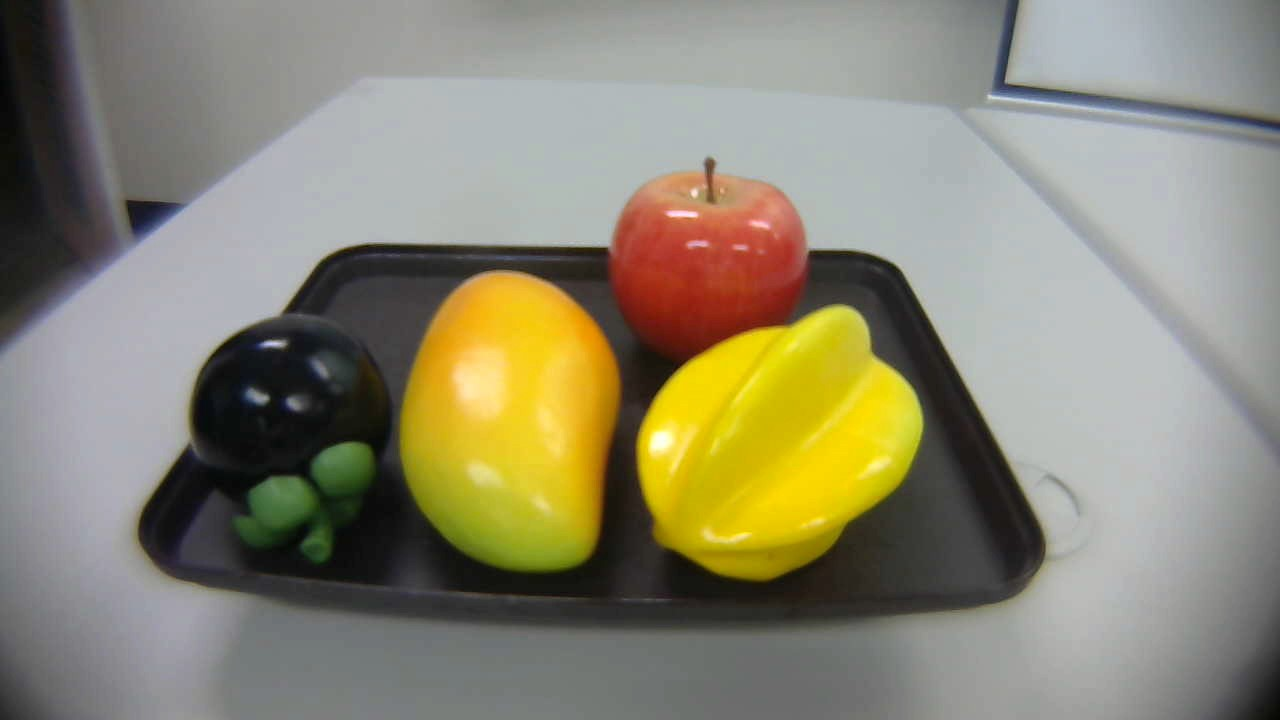mangosteen: (185, 306, 400, 568)
red apple: (610, 159, 810, 364)
star fruit: (630, 305, 927, 578)
yellow mango: (390, 259, 622, 586)
